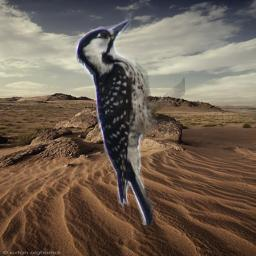Woodpecker: (74, 17, 185, 225)
